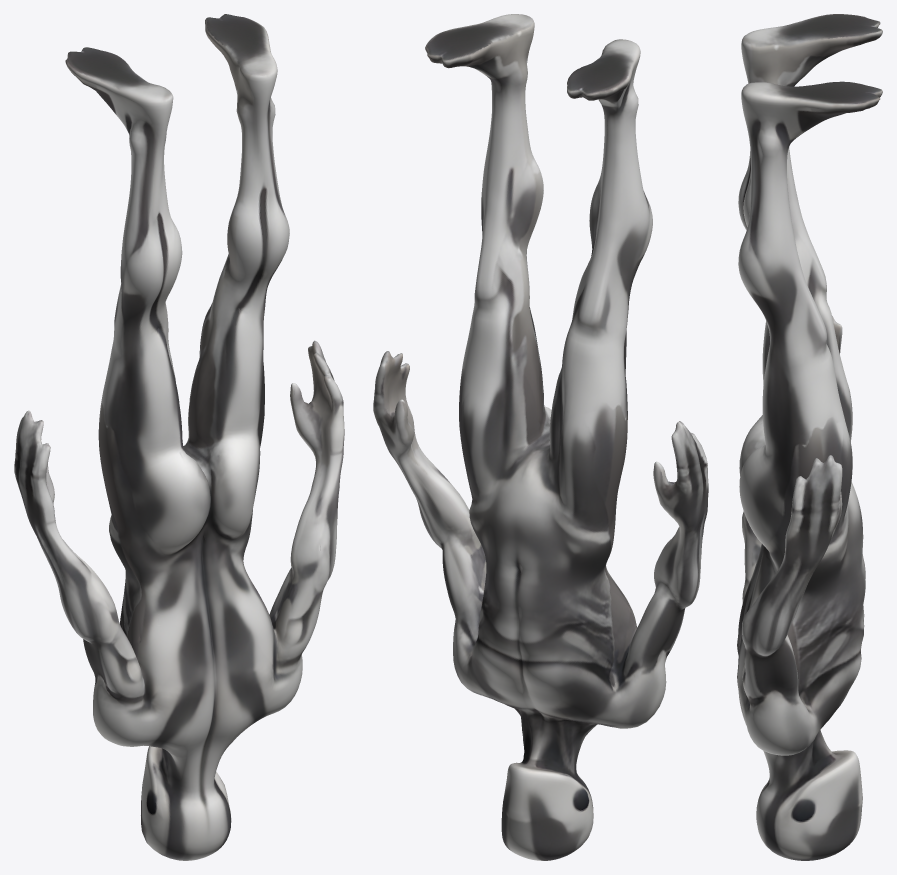
File: mecha.glb
3 views of the same model, side by side, from view 1: azimuth 30°, elevation 25°; view 2: azimuth 150°, elevation 25°; view 3: azimuth 270°, elevation 25° (orthographic).
Parts seen in each view (by area): view 1: Object_2; view 2: Object_2; view 3: Object_2.
Part boxes in pixels (bbox=[...]): Object_2: bbox=[14, 14, 344, 860]; Object_2: bbox=[373, 14, 708, 860]; Object_2: bbox=[737, 14, 882, 860].
Bounding box in the file's own units: 0.791 × 1.9 × 0.3152.
1 material, 1 textured.
